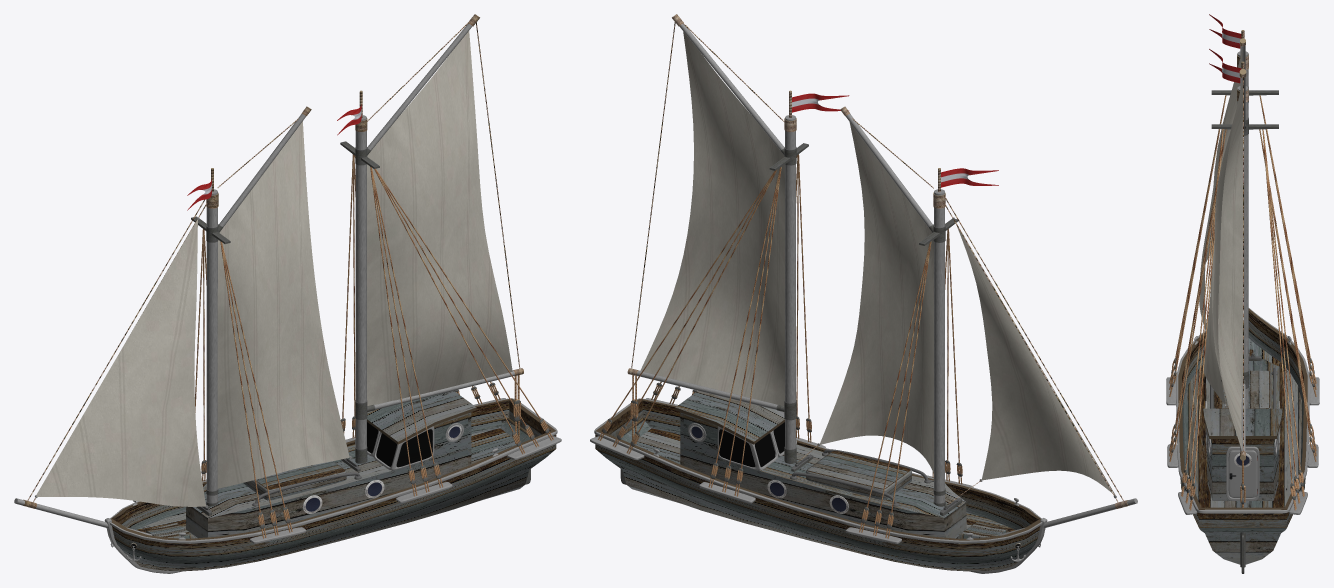
File: ship_01.glb
3 views of the same model, side by side, from view 1: azimuth 30°, elevation 25°; view 2: azimuth 150°, elevation 25°; view 3: azimuth 270°, elevation 25° (orthographic).
Visible parts, largest first — view 1: Object_3, Object_23, Object_7, Object_26, Object_9, Object_15, Object_2, Object_8; view 2: Object_3, Object_23, Object_7, Object_26, Object_9, Object_15, Object_2, Object_22, Object_8; view 3: Object_23, Object_3, Object_26, Object_7, Object_9, Object_15, Object_22, Object_8.
Part boxes in pixels (left/top/right/bottom): Object_3: left=36, top=31, right=512, bottom=506; Object_23: left=111, top=390, right=556, bottom=571; Object_7: left=14, top=23, right=561, bottom=573; Object_26: left=195, top=154, right=553, bottom=538; Object_9: left=191, top=141, right=549, bottom=528; Object_15: left=23, top=14, right=523, bottom=508; Object_2: left=367, top=422, right=432, bottom=467; Object_8: left=303, top=425, right=461, bottom=513; Object_3: left=640, top=32, right=1115, bottom=495; Object_23: left=595, top=391, right=1041, bottom=571; Object_7: left=590, top=24, right=1137, bottom=573; Object_26: left=598, top=154, right=962, bottom=538; Object_9: left=602, top=143, right=962, bottom=528; Object_15: left=627, top=14, right=1128, bottom=508; Object_2: left=719, top=422, right=784, bottom=467; Object_22: left=792, top=93, right=998, bottom=187; Object_8: left=690, top=425, right=848, bottom=513; Object_23: left=1178, top=308, right=1307, bottom=564; Object_3: left=1199, top=50, right=1242, bottom=449; Object_26: left=1169, top=95, right=1316, bottom=510; Object_7: left=1166, top=45, right=1319, bottom=514; Object_9: left=1171, top=87, right=1314, bottom=573; Object_15: left=1226, top=30, right=1251, bottom=460; Object_22: left=1209, top=14, right=1241, bottom=83; Object_8: left=1205, top=401, right=1279, bottom=467.
Bounding box in the file's own units: 10.87 × 9.64 × 2.78.
12 materials, 11 textured.
